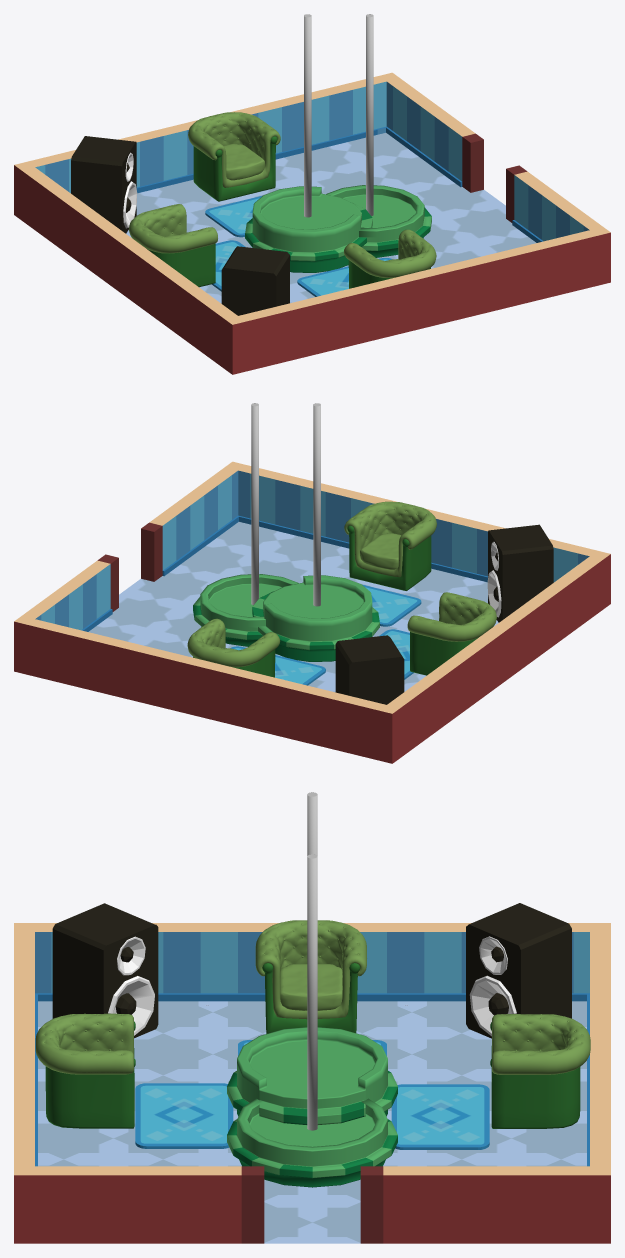
Rendered from VIP_Room_Lvl3_01a 1.fbx.
3 renders of one model, top to bottom at view 1: azimuth 30°, elevation 25°; view 2: azimuth 150°, elevation 25°; view 3: azimuth 270°, elevation 25°, orthographic. The views are drawn at different scales.
Parts seen in each view (by area): view 1: Plane.005, Plane.015; view 2: Plane.005, Plane.015; view 3: Plane.005, Plane.015.
Boxes of the visible parts, bbox=[...] form: Plane.005: bbox=[14, 72, 610, 374]; Plane.015: bbox=[71, 14, 436, 315]; Plane.005: bbox=[14, 461, 610, 763]; Plane.015: bbox=[187, 403, 553, 704]; Plane.005: bbox=[14, 923, 610, 1243]; Plane.015: bbox=[35, 792, 590, 1187].
Size of the model in its own units: 7.92 by 4.68 by 7.92.
Materials: 4 (3 with a texture image).
